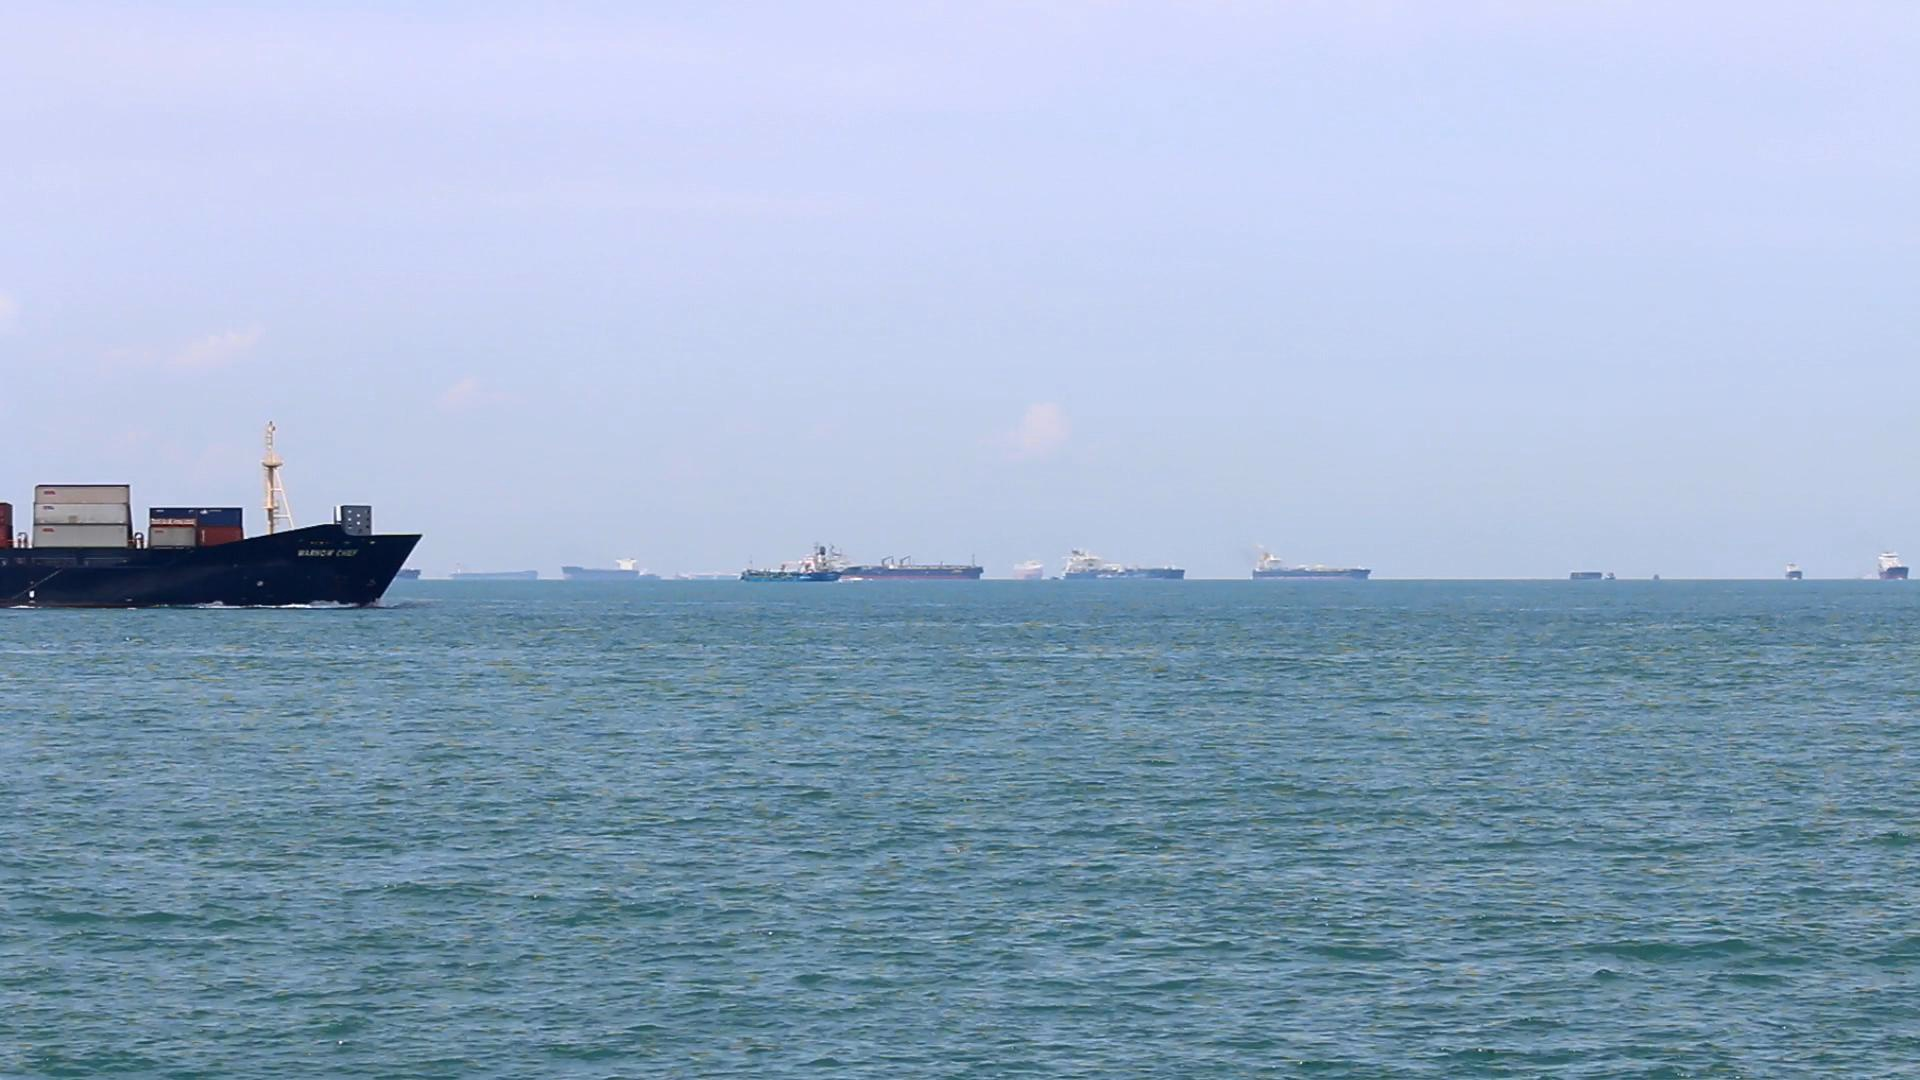Container Ship: (1, 411, 429, 609), (1068, 535, 1193, 582), (1246, 545, 1386, 580), (853, 550, 994, 580), (752, 545, 860, 580), (563, 550, 669, 584), (1869, 539, 1920, 587), (444, 563, 553, 585), (1568, 554, 1627, 593), (381, 545, 433, 585), (1009, 546, 1060, 587), (676, 564, 756, 585), (1779, 550, 1822, 584)
